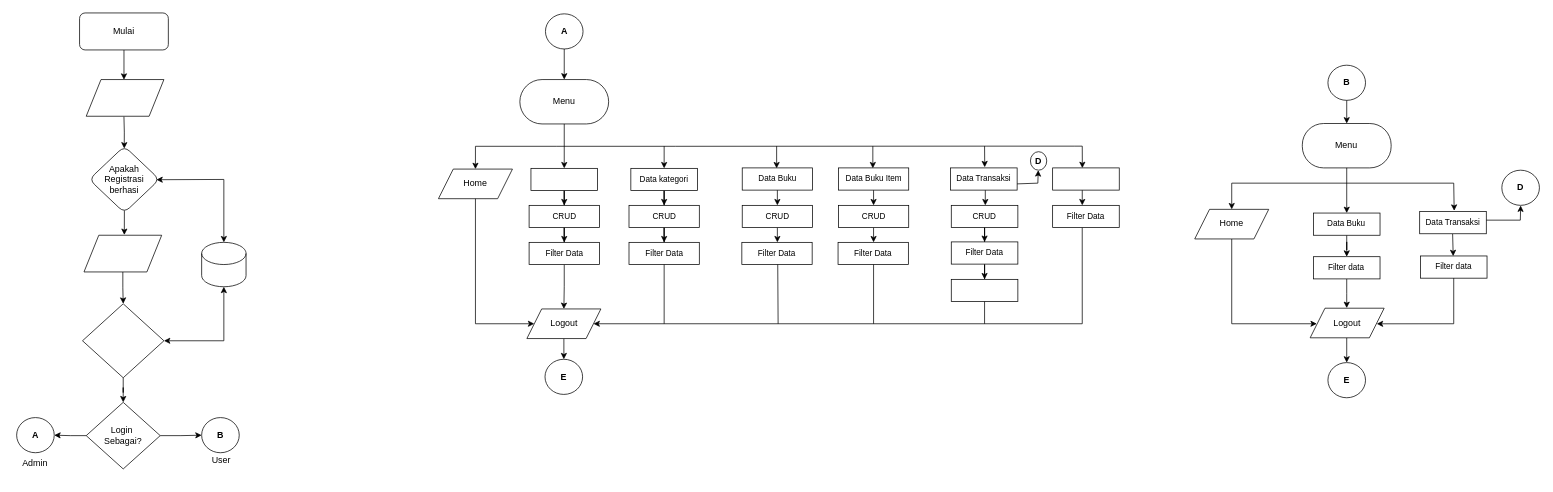
This 1553x492 diagram has some shape labels left out. Here are the shapes that lost their labels. From the top down, the centre of each, then its label:
At [124,97]: "Registrasi".
At [564,179]: "Data User".
At [1085,178]: "Riwayat Transaksi".
At [122,253]: "Login".
At [223,264]: "DB User".
At [984,290]: "Cetak Transaksi".
At [123,340]: "Apakah nik/nip/nisn& password benar?".
